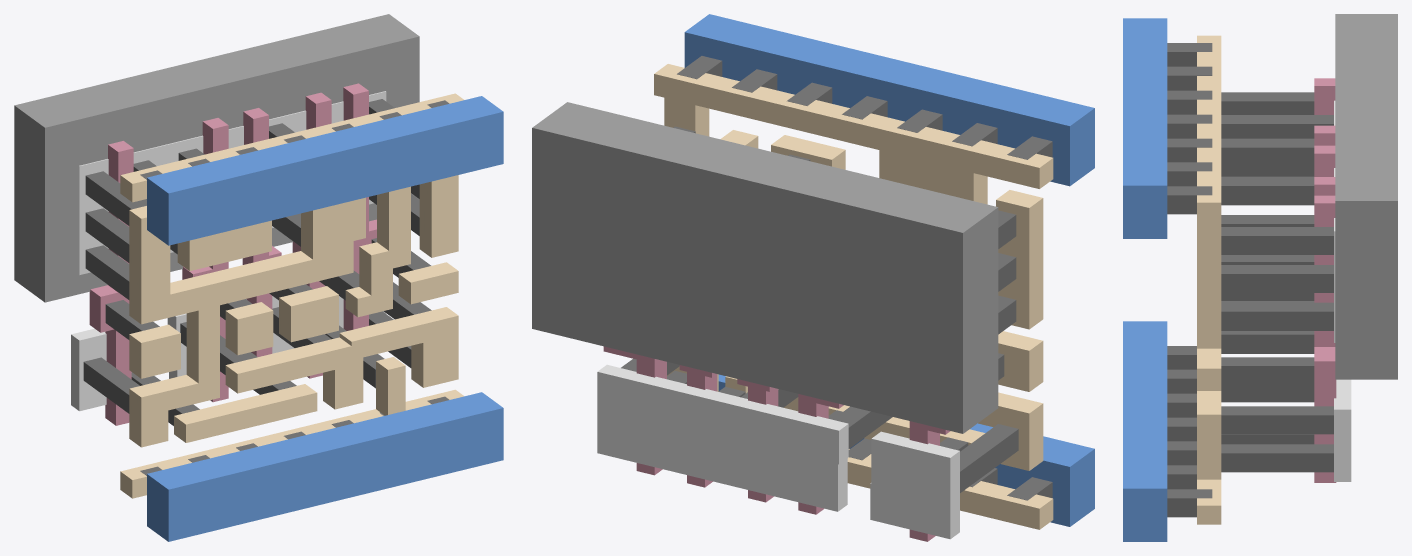
File: sky130_fd_sc_hd__o221ai_1.gds.gltf
The picture shows the model from 3 angles, left to right: view 1: azimuth 30°, elevation 25°; view 2: azimuth 150°, elevation 25°; view 3: azimuth 270°, elevation 25°; orthographic projection. The views are drawn at different scales.
Visible parts, largest first — view 1: sky130_fd_sc_hd__o221ai_1_li1, sky130_fd_sc_hd__o221ai_1_met1, sky130_fd_sc_hd__o221ai_1_nwell, sky130_fd_sc_hd__o221ai_1_licon, sky130_fd_sc_hd__o221ai_1_poly, sky130_fd_sc_hd__o221ai_1_diff, sky130_fd_sc_hd__o221ai_1_mcon; view 2: sky130_fd_sc_hd__o221ai_1_nwell, sky130_fd_sc_hd__o221ai_1_li1, sky130_fd_sc_hd__o221ai_1_diff, sky130_fd_sc_hd__o221ai_1_met1, sky130_fd_sc_hd__o221ai_1_licon, sky130_fd_sc_hd__o221ai_1_mcon, sky130_fd_sc_hd__o221ai_1_poly; view 3: sky130_fd_sc_hd__o221ai_1_licon, sky130_fd_sc_hd__o221ai_1_nwell, sky130_fd_sc_hd__o221ai_1_met1, sky130_fd_sc_hd__o221ai_1_mcon, sky130_fd_sc_hd__o221ai_1_li1, sky130_fd_sc_hd__o221ai_1_poly, sky130_fd_sc_hd__o221ai_1_diff.
Part boxes in pixels (bbox=[...]): sky130_fd_sc_hd__o221ai_1_li1: bbox=[120, 93, 463, 498]; sky130_fd_sc_hd__o221ai_1_met1: bbox=[147, 96, 503, 541]; sky130_fd_sc_hd__o221ai_1_nwell: bbox=[14, 14, 419, 302]; sky130_fd_sc_hd__o221ai_1_licon: bbox=[83, 99, 431, 425]; sky130_fd_sc_hd__o221ai_1_poly: bbox=[89, 83, 376, 425]; sky130_fd_sc_hd__o221ai_1_diff: bbox=[71, 91, 386, 411]; sky130_fd_sc_hd__o221ai_1_mcon: bbox=[140, 100, 449, 475]; sky130_fd_sc_hd__o221ai_1_nwell: bbox=[532, 102, 998, 433]; sky130_fd_sc_hd__o221ai_1_li1: bbox=[654, 64, 1053, 529]; sky130_fd_sc_hd__o221ai_1_diff: bbox=[597, 364, 959, 539]; sky130_fd_sc_hd__o221ai_1_met1: bbox=[684, 14, 1094, 526]; sky130_fd_sc_hd__o221ai_1_licon: bbox=[621, 126, 1018, 492]; sky130_fd_sc_hd__o221ai_1_mcon: bbox=[677, 56, 1052, 500]; sky130_fd_sc_hd__o221ai_1_poly: bbox=[603, 346, 950, 541]; sky130_fd_sc_hd__o221ai_1_licon: bbox=[1221, 92, 1333, 472]; sky130_fd_sc_hd__o221ai_1_nwell: bbox=[1335, 14, 1397, 379]; sky130_fd_sc_hd__o221ai_1_met1: bbox=[1123, 18, 1167, 541]; sky130_fd_sc_hd__o221ai_1_mcon: bbox=[1167, 43, 1212, 517]; sky130_fd_sc_hd__o221ai_1_li1: bbox=[1197, 35, 1221, 524]; sky130_fd_sc_hd__o221ai_1_poly: bbox=[1314, 78, 1336, 482]; sky130_fd_sc_hd__o221ai_1_diff: bbox=[1334, 100, 1351, 481].
Size of the model in its own units: 3.6 by 3.2 by 2.24.
